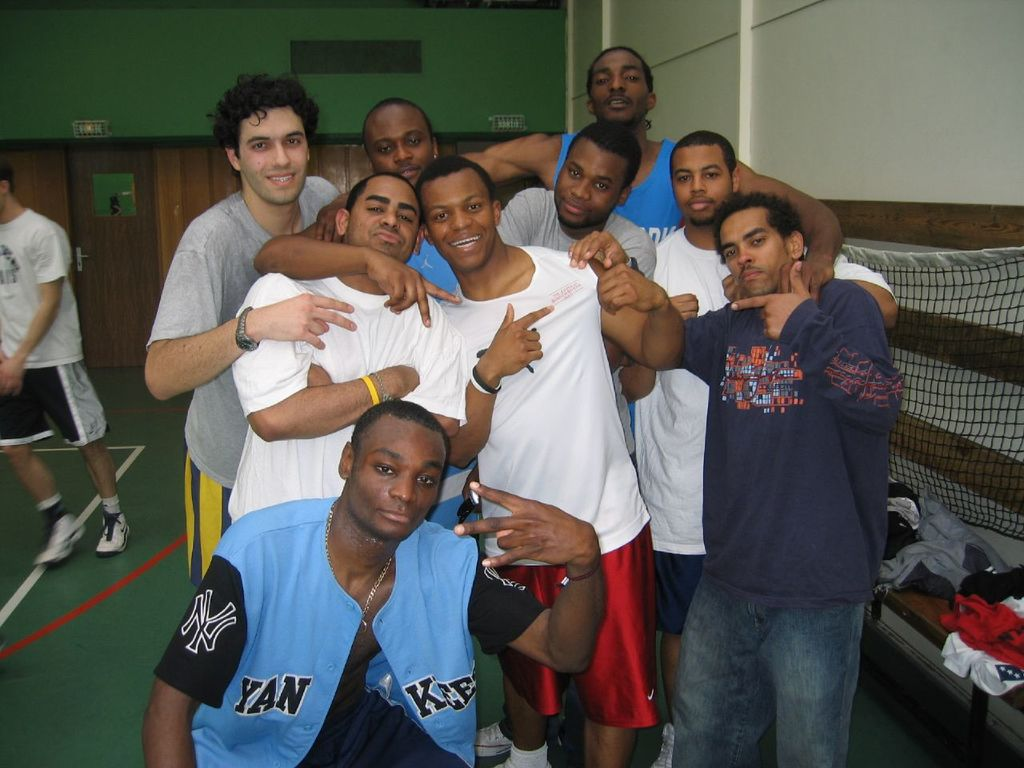Footwear: (34, 515, 89, 570), (97, 514, 130, 557), (475, 719, 509, 759)
